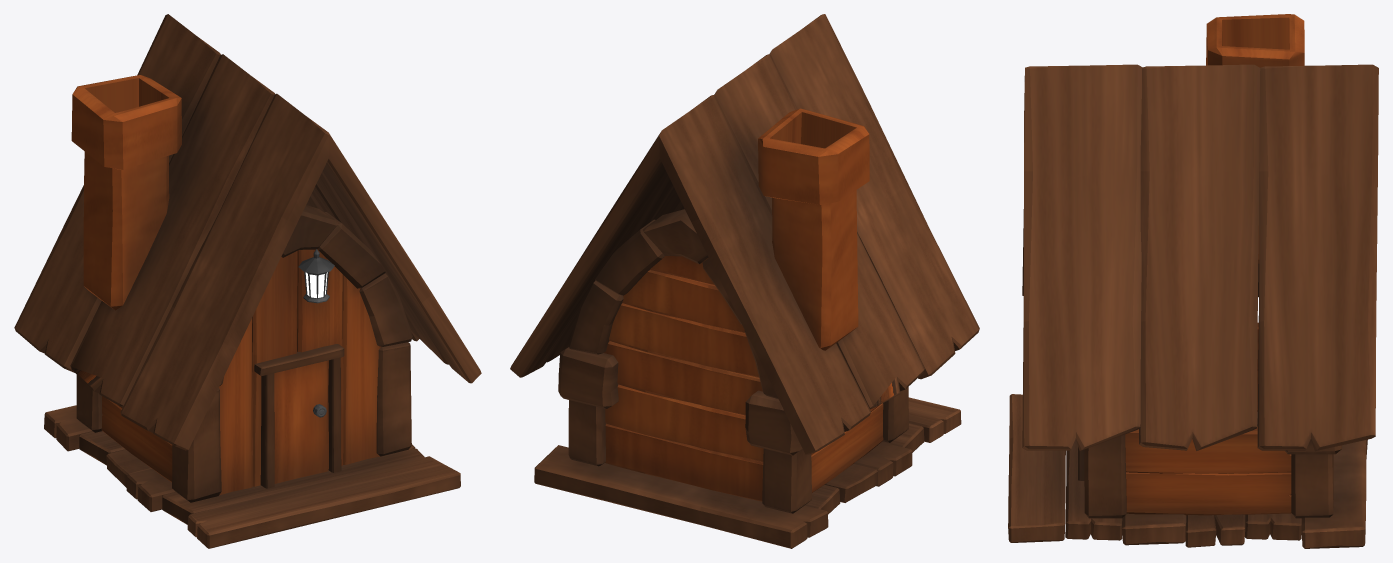
Rendered from PA_Houseset1_House1_CROP.fbx.
3 renders of one model, left to right at view 1: azimuth 30°, elevation 25°; view 2: azimuth 150°, elevation 25°; view 3: azimuth 270°, elevation 25°, orthographic. The views are drawn at different scales.
Parts seen in each view (by area): view 1: PA_Houseset1_House1.035, PA_Houseset1_House1.007, PA_Houseset1_House1.005, PA_Houseset1_House1.001, PA_Houseset1_House1.034, PA_Houseset1_House1.002, PA_Houseset1_House1.038, PA_Houseset1_House1.022, PA_Houseset1_House1.020, PA_Houseset1_House1.019, PA_Houseset1_House1.004, PA_Houseset1_House1.039 (+7 smaller); view 2: PA_Houseset1_House1.034, PA_Houseset1_House1.035, PA_Houseset1_House1.005, PA_Houseset1_House1.001, PA_Houseset1_House1.007, PA_Houseset1_House1.037, PA_Houseset1_House1.012, PA_Houseset1_House1.013, PA_Houseset1_House1.027, PA_Houseset1_House1.003, PA_Houseset1_House1.023, PA_Houseset1_House1.030 (+9 smaller); view 3: PA_Houseset1_House1.037, PA_Houseset1_House1.036, PA_Houseset1_House1.038, PA_Houseset1_House1.001, PA_Houseset1_House1.009, PA_Houseset1_House1.005, PA_Houseset1_House1.008, PA_Houseset1_House1.004, PA_Houseset1_House1.040.
Boxes of the visible parts, <box> form: PA_Houseset1_House1.035: <box>120,93,329,450</box>; PA_Houseset1_House1.007: <box>70,54,274,407</box>; PA_Houseset1_House1.005: <box>71,75,181,310</box>; PA_Houseset1_House1.001: <box>44,405,460,548</box>; PA_Houseset1_House1.034: <box>14,14,220,372</box>; PA_Houseset1_House1.002: <box>254,344,344,488</box>; PA_Houseset1_House1.038: <box>310,119,481,383</box>; PA_Houseset1_House1.022: <box>342,275,380,464</box>; PA_Houseset1_House1.020: <box>252,251,297,486</box>; PA_Houseset1_House1.019: <box>218,318,252,495</box>; PA_Houseset1_House1.004: <box>376,342,411,456</box>; PA_Houseset1_House1.039: <box>172,388,221,502</box>; PA_Houseset1_House1.034: <box>659,95,870,454</box>; PA_Houseset1_House1.035: <box>770,14,979,379</box>; PA_Houseset1_House1.005: <box>758,108,869,350</box>; PA_Houseset1_House1.001: <box>534,397,961,548</box>; PA_Houseset1_House1.007: <box>715,54,924,409</box>; PA_Houseset1_House1.037: <box>510,95,711,377</box>; PA_Houseset1_House1.012: <box>605,423,763,501</box>; PA_Houseset1_House1.013: <box>605,384,763,462</box>; PA_Houseset1_House1.027: <box>609,303,759,377</box>; PA_Houseset1_House1.003: <box>604,341,762,415</box>; PA_Houseset1_House1.023: <box>622,270,744,332</box>; PA_Houseset1_House1.030: <box>558,347,618,408</box>; PA_Houseset1_House1.037: <box>1257,64,1378,451</box>; PA_Houseset1_House1.036: <box>1139,64,1260,450</box>; PA_Houseset1_House1.038: <box>1022,64,1142,450</box>; PA_Houseset1_House1.001: <box>1008,394,1367,548</box>; PA_Houseset1_House1.009: <box>1126,472,1291,515</box>; PA_Houseset1_House1.005: <box>1206,14,1304,263</box>; PA_Houseset1_House1.008: <box>1125,426,1291,473</box>; PA_Houseset1_House1.004: <box>1084,434,1126,518</box>; PA_Houseset1_House1.040: <box>1291,454,1333,518</box>.
Bounding box in the file's own units: 290 × 342 × 277.
